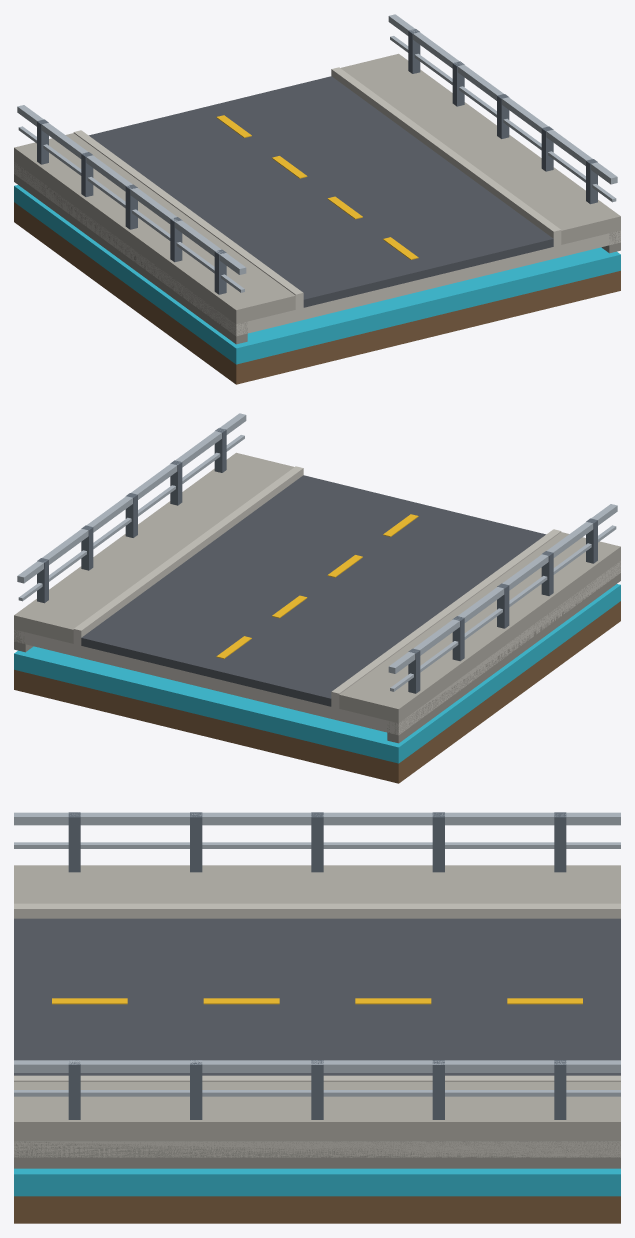
The model's file is ponte.glb.
The picture shows the model from 3 angles, top to bottom: view 1: azimuth 30°, elevation 25°; view 2: azimuth 150°, elevation 25°; view 3: azimuth 270°, elevation 25°; orthographic projection. The views are drawn at different scales.
Visible parts, largest first — view 1: corpo; view 2: corpo; view 3: corpo.
Part boxes in pixels (x1=…): corpo: x1=14, y1=14, x2=620, y2=384; corpo: x1=14, y1=413, x2=620, y2=783; corpo: x1=14, y1=812, x2=620, y2=1223.
Size of the model in its own units: 2 by 0.57 by 2.
